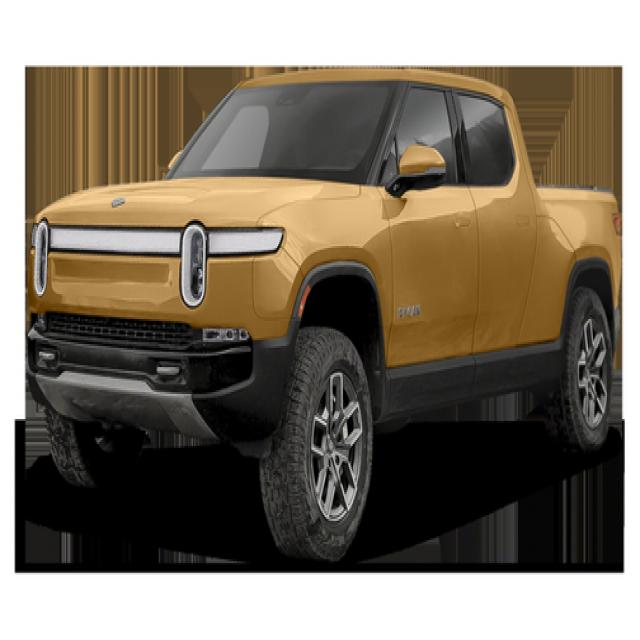truck: (22, 22, 633, 556)
